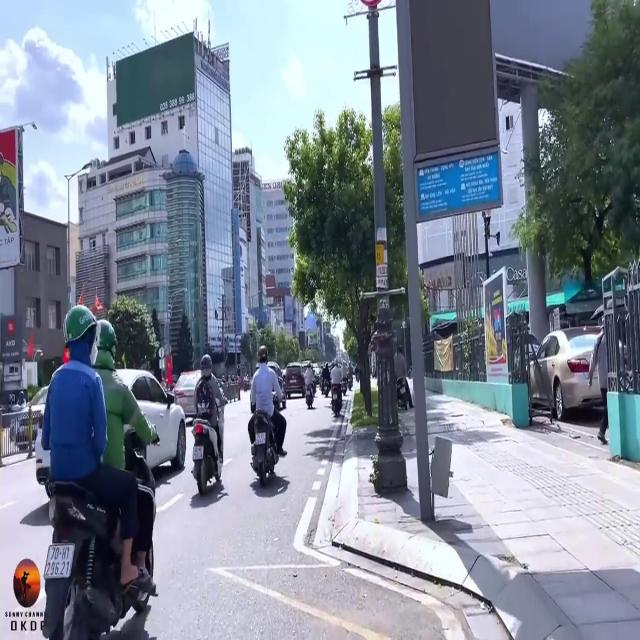bien_trang: (40, 540, 74, 579)
